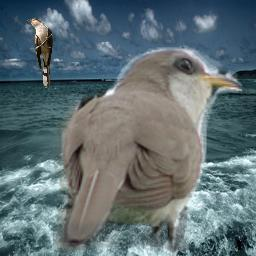Cuckoo: (53, 47, 242, 253), (27, 18, 53, 88)
